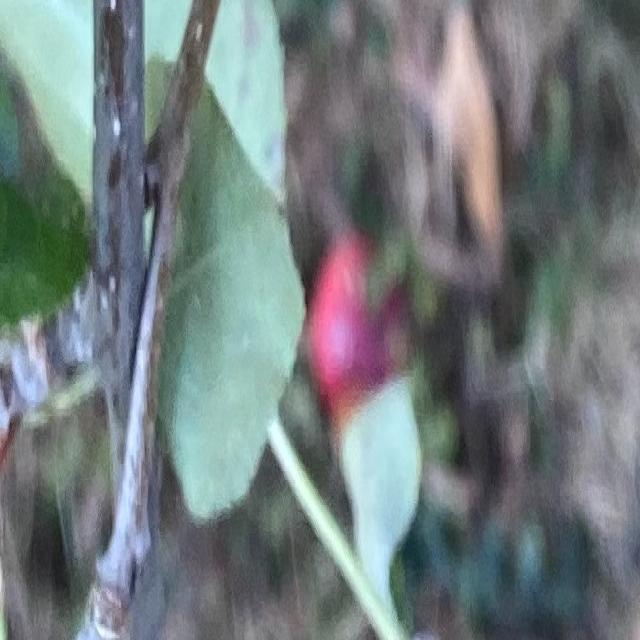100-_ripeness: (314, 242, 402, 414)
